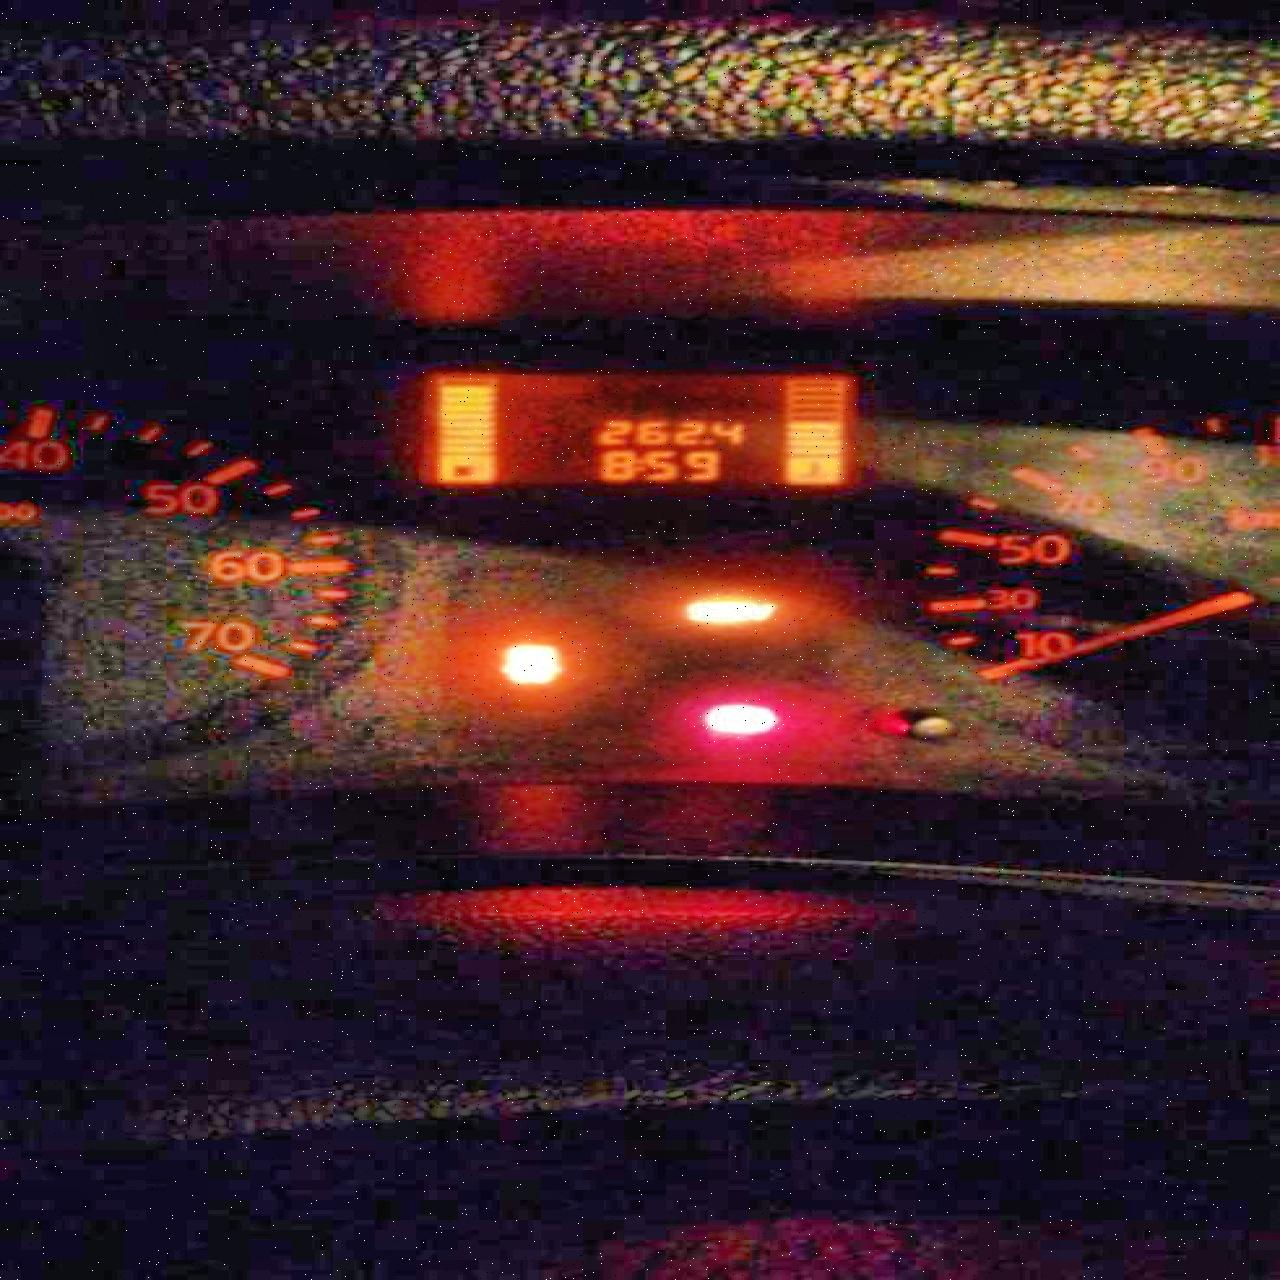-: (700, 436, 715, 445)
2: (595, 418, 629, 445), (672, 418, 702, 445)
4: (710, 420, 742, 444)
5: (640, 448, 676, 481)
6: (634, 418, 668, 443)
8: (595, 449, 632, 481)
9: (682, 449, 719, 482)
X: (635, 456, 640, 472)
odometer: (409, 361, 862, 489)
